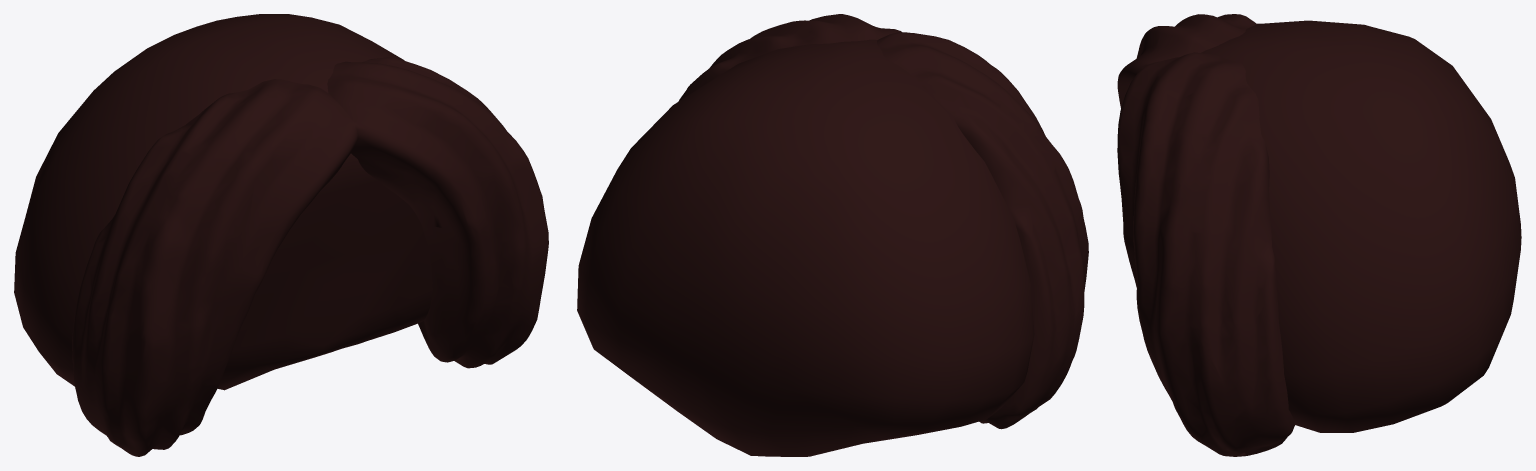
Rendered from hair-8-bd999ac3.glb.
3 renders of one model, left to right at view 1: azimuth 30°, elevation 25°; view 2: azimuth 150°, elevation 25°; view 3: azimuth 270°, elevation 25°, orthographic. The views are drawn at different scales.
Visible parts, largest first — view 1: hair_8.001; view 2: hair_8.001; view 3: hair_8.001.
Part boxes in pixels (x1,y1,x2,y2): hair_8.001: (14,14,548,456); hair_8.001: (577,14,1088,456); hair_8.001: (1117,14,1521,456).
Bounding box in the file's own units: 2.71 × 2.14 × 2.19.
